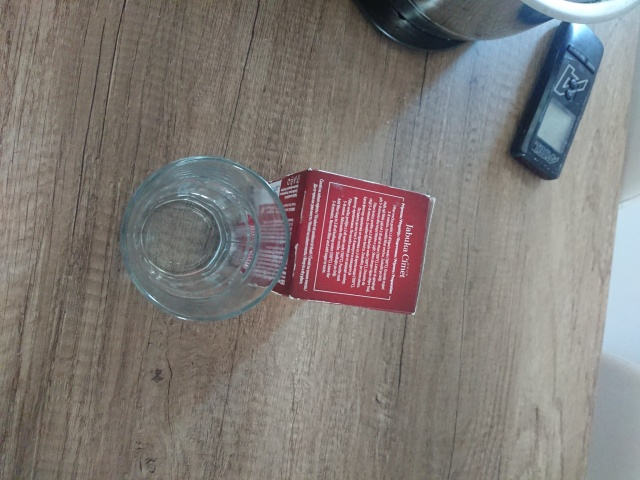Franck Apple Cinnamon Tea 60g: (238, 165, 437, 316)
